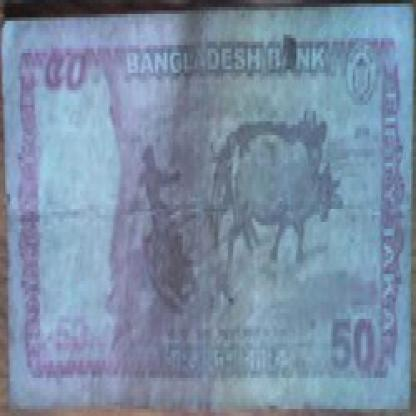Fifty taka: (36, 52, 100, 125), (321, 308, 376, 392)
